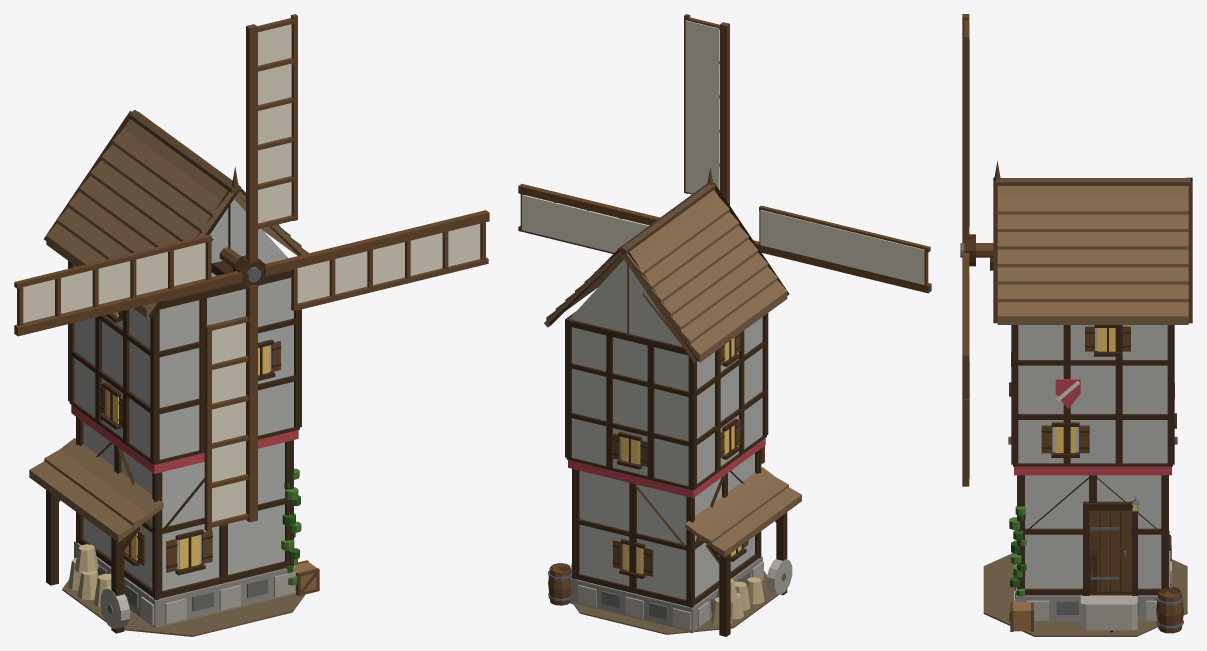
The model's file is mill_3.obj.
3 views of the same model, side by side, from view 1: azimuth 30°, elevation 25°; view 2: azimuth 150°, elevation 25°; view 3: azimuth 270°, elevation 25° (orthographic). The views are drawn at different scales.
Visible parts, largest first — view 1: Sails.Canvas, Upper, Roof, Sails.Spar, Walls, Timber.Post, Shed.Roof, Sails.Bar, Sails.Rail, Ground, Base, Timber.Rail (+14 smaller); view 2: Upper, Roof, Sails.Canvas, Walls, Timber.Post, Shed.Roof, Sails.Spar, Gable, Timber.Rail, Base, Base.Stone, Ground (+15 smaller); view 3: Roof, Upper, Walls, Timber.Post, Ground, Door, Sails.Spar, Timber.Rail, Step, Door.Frame, Band, Roof.Ridge (+16 smaller).
Boxes of the visible parts, x1,y1,x2,y2 form: Sails.Canvas: [23, 24, 480, 521]; Upper: [74, 265, 293, 459]; Roof: [46, 119, 308, 317]; Sails.Spar: [14, 24, 489, 522]; Walls: [83, 422, 284, 590]; Timber.Post: [68, 261, 301, 599]; Shed.Roof: [29, 438, 163, 542]; Sails.Bar: [17, 18, 485, 527]; Sails.Rail: [14, 14, 488, 531]; Ground: [62, 580, 305, 636]; Base: [74, 541, 295, 627]; Timber.Rail: [70, 315, 298, 534]; Upper: [572, 317, 762, 485]; Roof: [546, 190, 787, 362]; Sails.Canvas: [522, 20, 924, 284]; Walls: [579, 453, 754, 599]; Timber.Post: [565, 313, 768, 607]; Shed.Roof: [685, 467, 801, 557]; Sails.Spar: [518, 22, 931, 293]; Gable: [569, 259, 682, 346]; Timber.Rail: [567, 341, 766, 550]; Base: [570, 556, 762, 633]; Base.Stone: [578, 561, 763, 630]; Ground: [573, 571, 779, 634]; Roof: [997, 186, 1188, 324]; Upper: [1018, 325, 1167, 463]; Walls: [1025, 475, 1161, 588]; Timber.Post: [1011, 325, 1174, 595]; Ground: [983, 553, 1187, 636]; Door: [1089, 510, 1131, 595]; Sails.Spar: [962, 14, 969, 486]; Timber.Rail: [1015, 360, 1170, 534]; Step: [1080, 595, 1137, 630]; Door.Frame: [1083, 501, 1137, 595]; Band: [1014, 466, 1171, 475]; Roof.Ridge: [995, 178, 1190, 185].
Size of the model in its own units: 10.4 by 12.75 by 4.68.
